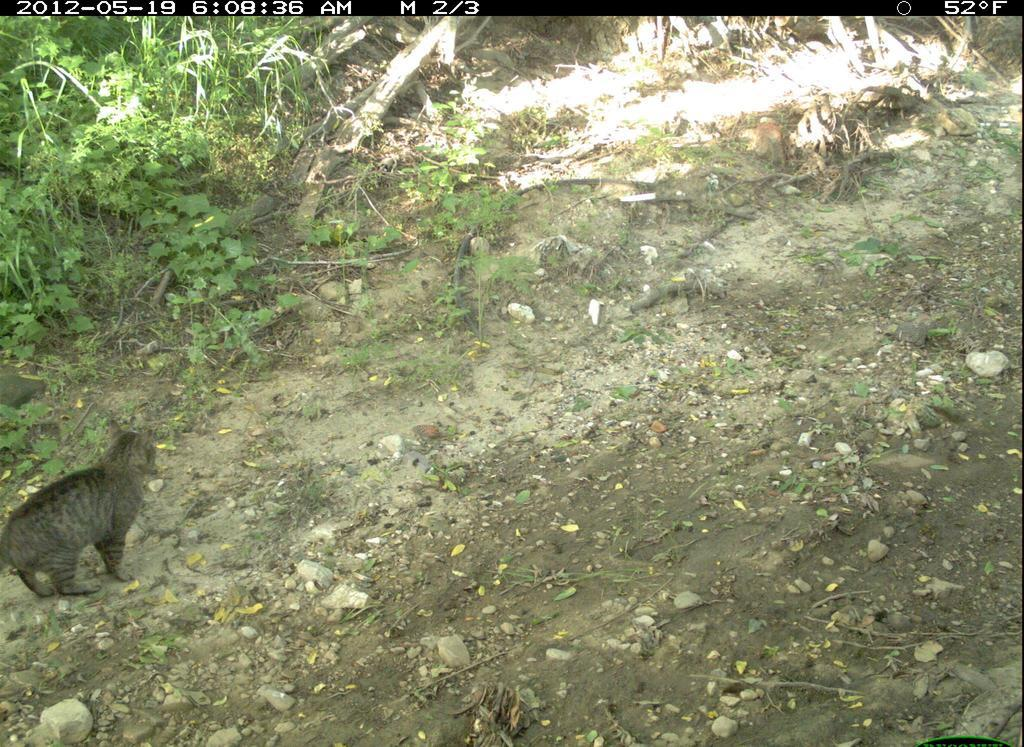cat: (8, 409, 163, 601)
